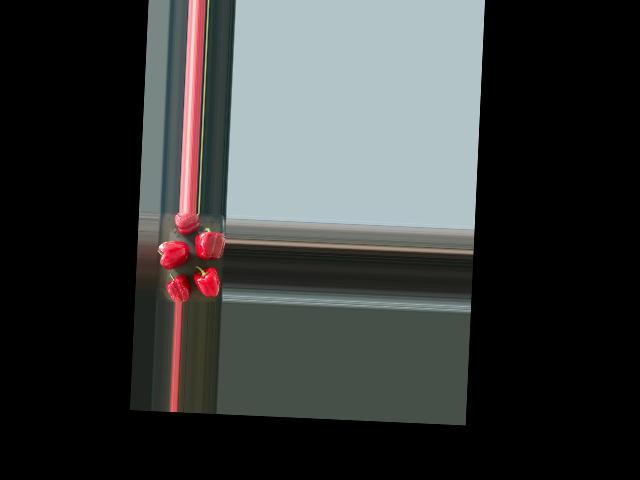bell_pepper: (169, 212, 201, 236)
